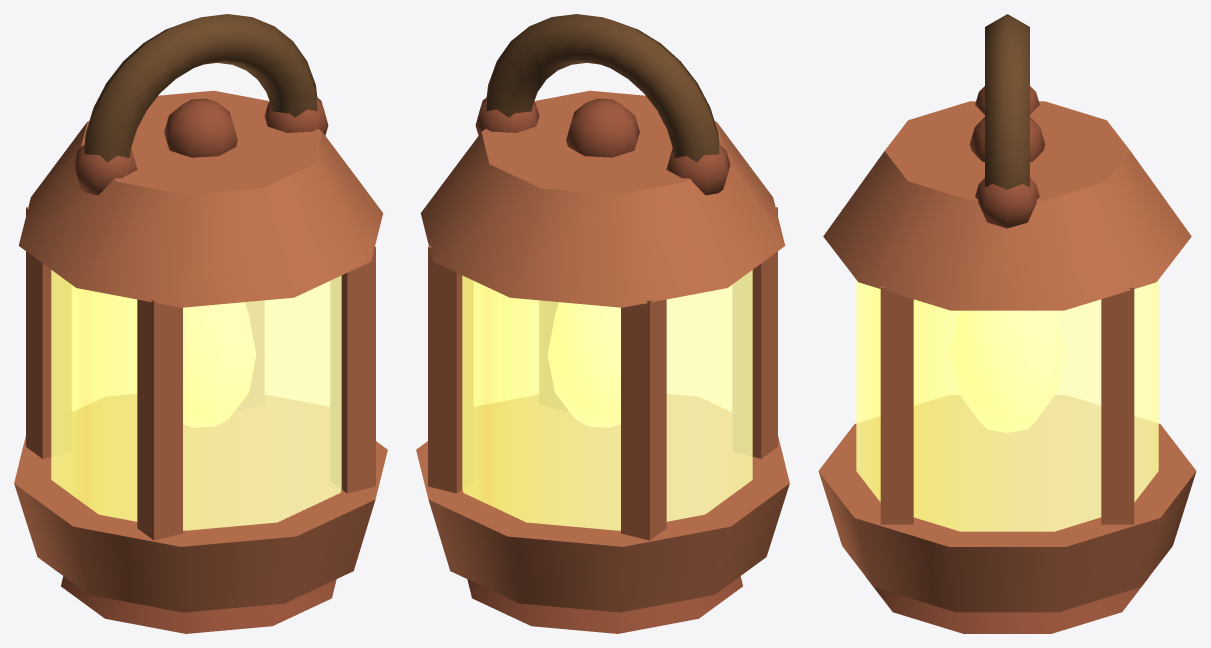
The model's file is lantern-round.glb.
3 views of the same model, side by side, from view 1: azimuth 30°, elevation 25°; view 2: azimuth 150°, elevation 25°; view 3: azimuth 270°, elevation 25° (orthographic).
Visible parts, largest first — view 1: Glass, Base, Cap, Bar (×4), Handle, Flame, Foot, Knob, Handle_Lug (×2); view 2: Glass, Base, Cap, Bar (×4), Handle, Flame, Foot, Knob, Handle_Lug (×2); view 3: Base, Glass, Cap, Bar (×2), Flame, Handle, Foot, Handle_Lug, Knob.
Boxes of the visible parts, x1,y1,x2,y2 form: Glass: [51, 270, 341, 530]; Base: [14, 394, 387, 612]; Cap: [18, 90, 383, 307]; Bar (×4): [26, 207, 375, 540]; Handle: [84, 14, 317, 162]; Flame: [183, 302, 255, 426]; Foot: [61, 576, 336, 633]; Knob: [164, 98, 237, 157]; Handle_Lug (×2): [73, 97, 328, 195]; Glass: [462, 270, 752, 530]; Base: [416, 394, 789, 612]; Cap: [420, 90, 785, 307]; Bar (×4): [428, 207, 777, 540]; Handle: [486, 14, 719, 162]; Flame: [548, 302, 620, 426]; Foot: [467, 576, 742, 633]; Knob: [566, 98, 639, 157]; Handle_Lug (×2): [475, 97, 730, 195]; Base: [818, 395, 1196, 612]; Glass: [856, 280, 1158, 531]; Cap: [823, 101, 1191, 310]; Bar (×2): [880, 286, 1134, 524]; Flame: [951, 311, 1063, 432]; Handle: [985, 14, 1029, 189]; Foot: [866, 577, 1148, 633]; Handle_Lug: [975, 178, 1039, 228]; Knob: [969, 117, 1045, 161].
Bounding box in the file's own units: 0.1522 × 0.257 × 0.16.
